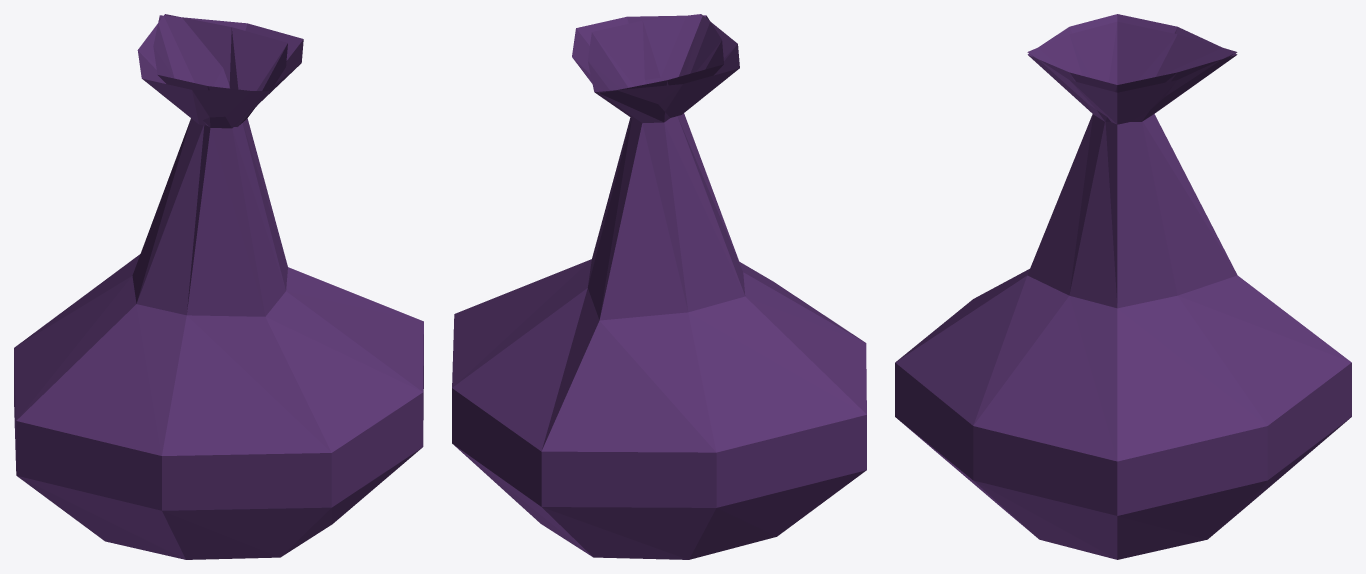
File: inv_ibans_shadow.obj
3 views of the same model, side by side, from view 1: azimuth 30°, elevation 25°; view 2: azimuth 150°, elevation 25°; view 3: azimuth 270°, elevation 25° (orthographic).
Size of the model in its own units: 0.6094 by 0.6484 by 0.5938.
